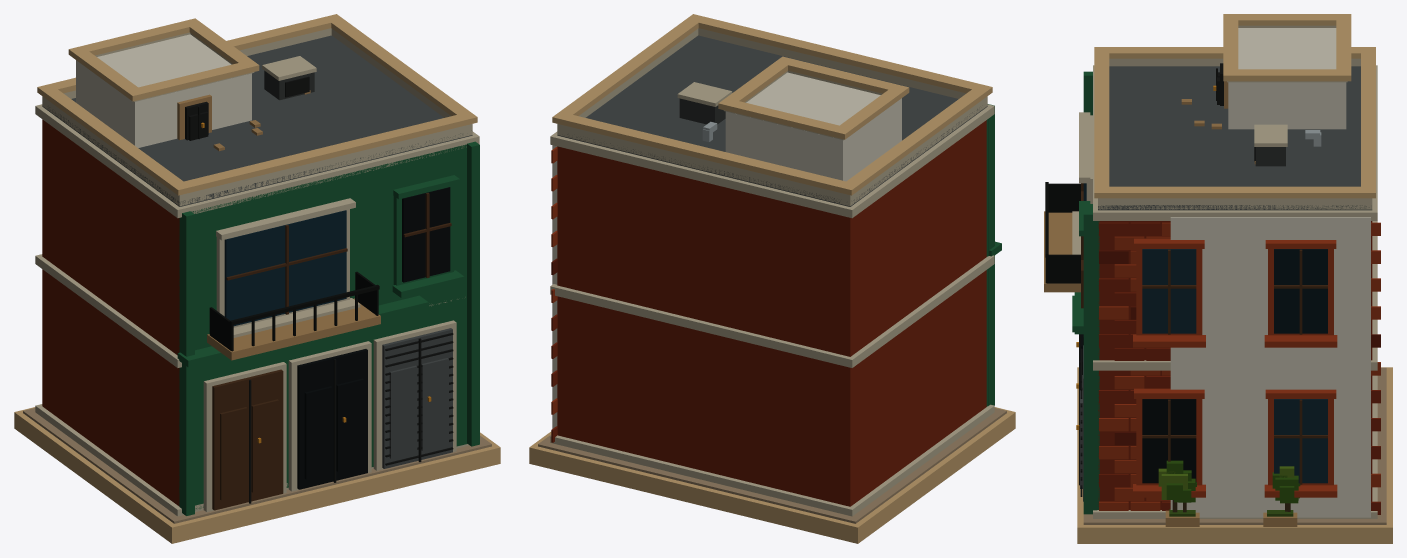
The model's file is SM_Mapa_033.fbx.
3 renders of one model, left to right at view 1: azimuth 30°, elevation 25°; view 2: azimuth 150°, elevation 25°; view 3: azimuth 270°, elevation 25°, orthographic.
Parts seen in each view (by area): view 1: SM_Mapa_033; view 2: SM_Mapa_033; view 3: SM_Mapa_033.
Boxes of the visible parts, x1,y1,x2,y2 form: SM_Mapa_033: (14,14,500,543); SM_Mapa_033: (529,14,1015,543); SM_Mapa_033: (1044,14,1392,543).
Bounding box in the file's own units: 8 × 7.23 × 8.83.
